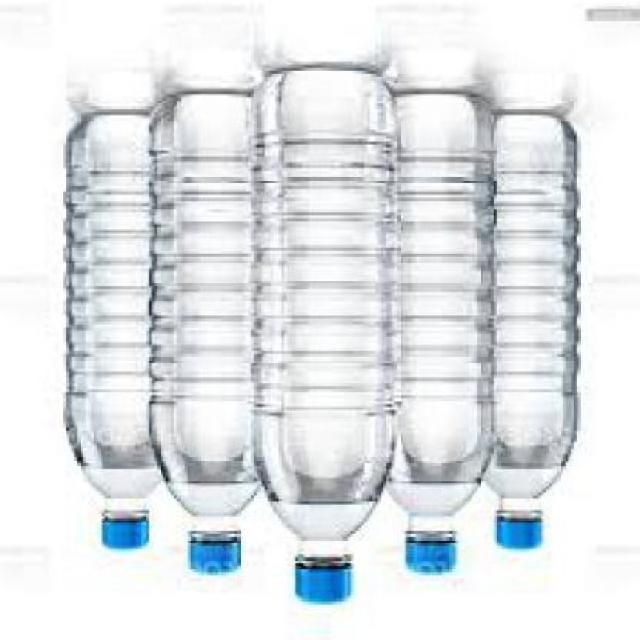PLASTIC: (245, 68, 402, 608), (383, 98, 500, 574), (152, 95, 266, 574), (475, 120, 582, 554), (66, 114, 168, 552), (298, 561, 356, 607), (408, 534, 461, 578), (106, 516, 152, 555), (497, 519, 546, 555), (196, 542, 242, 578)
